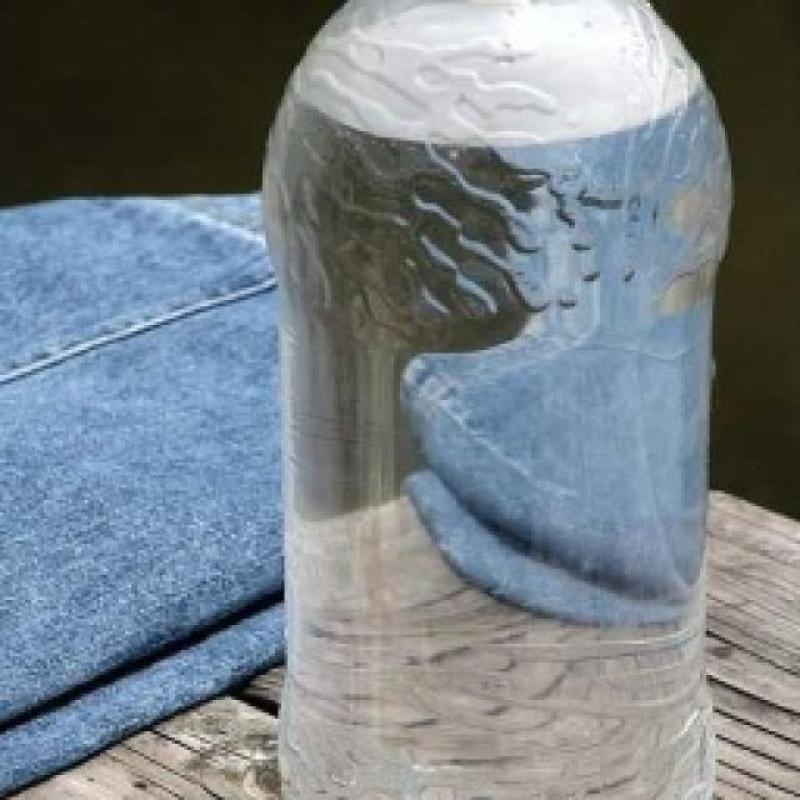botella: (253, 0, 732, 800)
